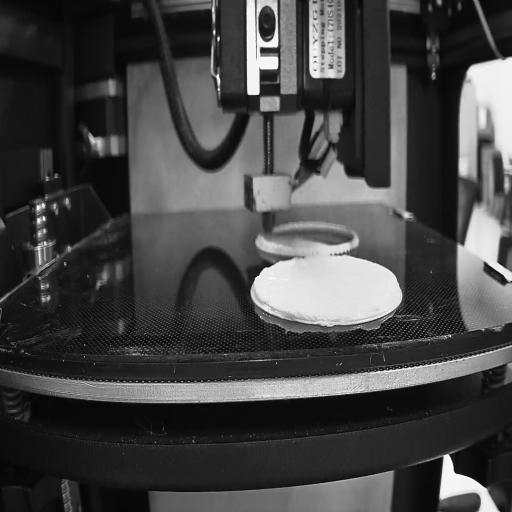over_extrusion: (252, 264, 271, 306)
